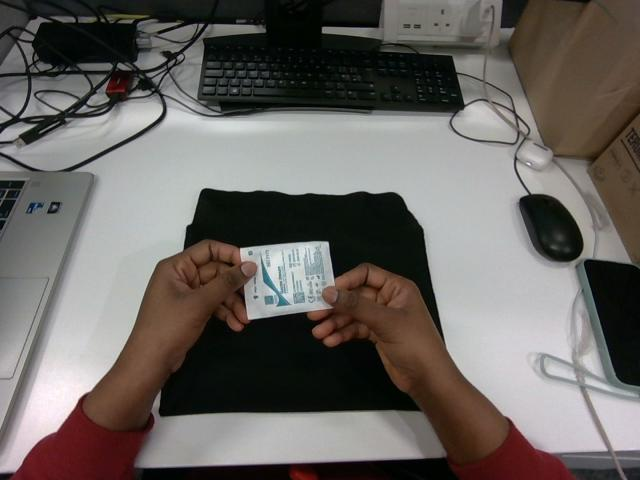gauze: (240, 241, 333, 319)
